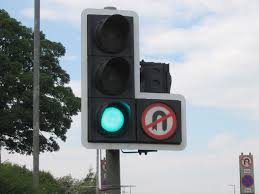No_u_turn: (141, 103, 177, 139)
